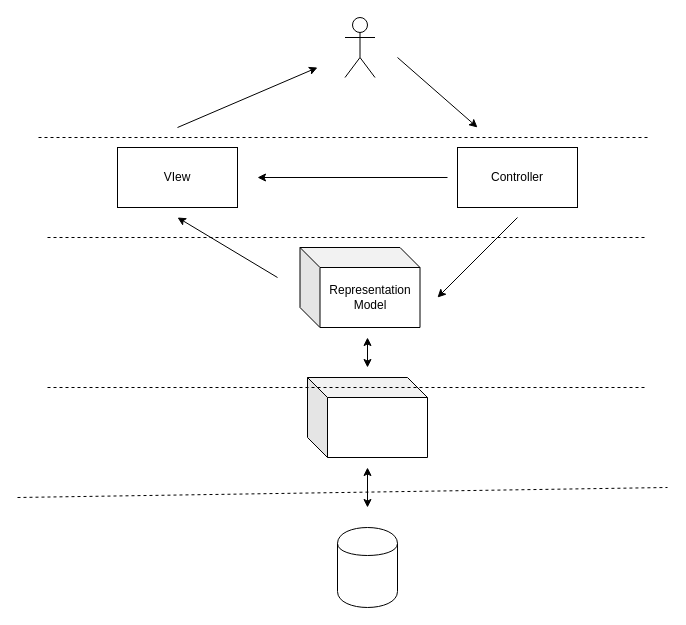
This 686x625 diagram has some shape labels left out. The shapes that lost their labels are listed below. From the top down, each one's centre as x and y in pixels, then its label:
point 359,47: Actor
point 367,417: Data Model
